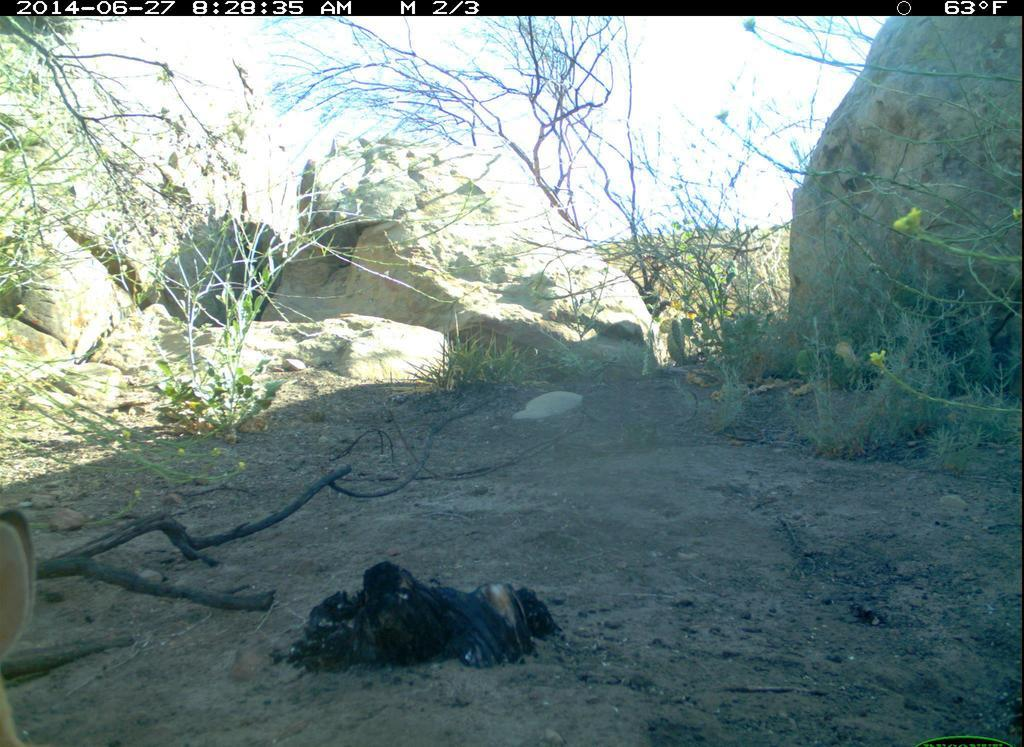rabbit: (1, 498, 48, 747)
